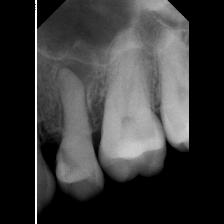apical_lesion: (44, 32, 107, 201)
